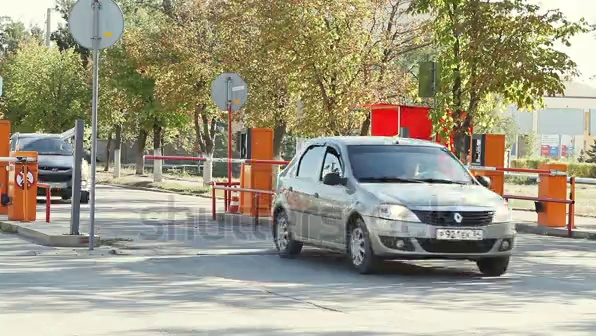licenseplate: (435, 229, 485, 243), (40, 179, 70, 195)
